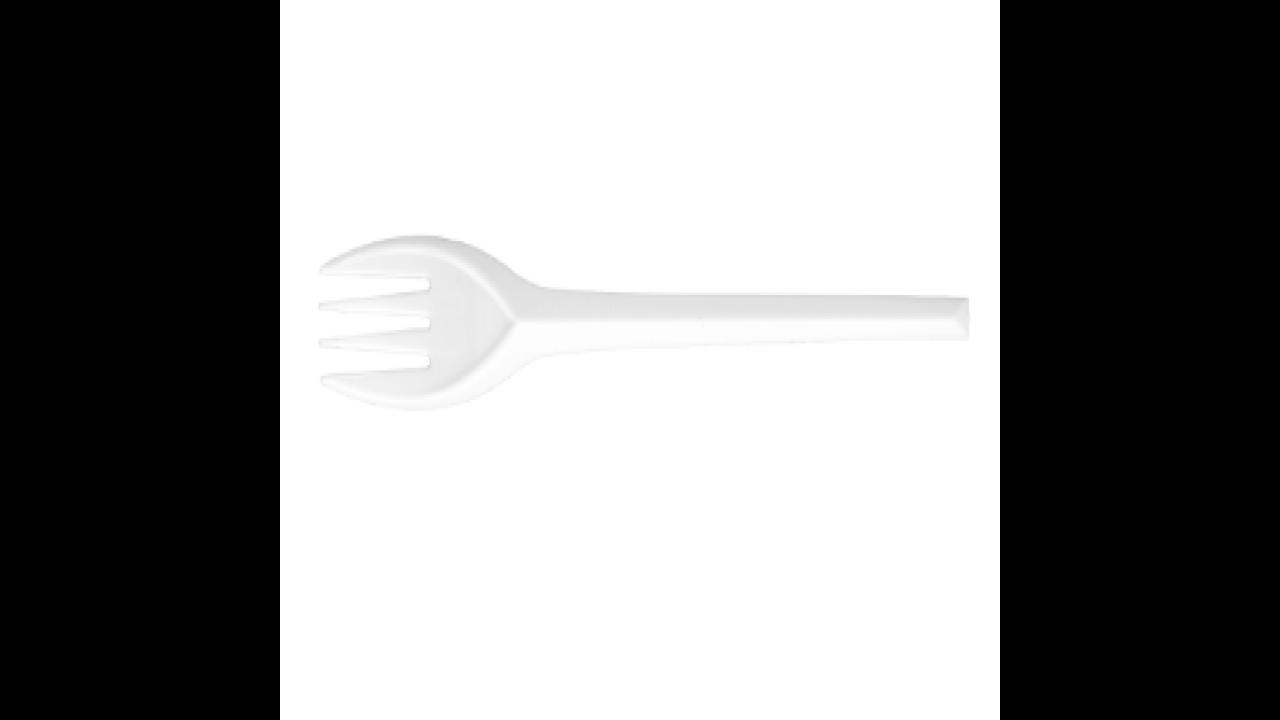fork: (314, 234, 969, 413)
